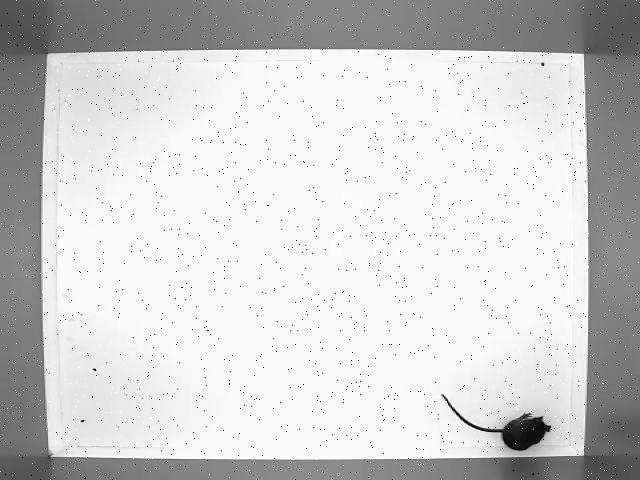Tikus: (434, 386, 552, 452)
